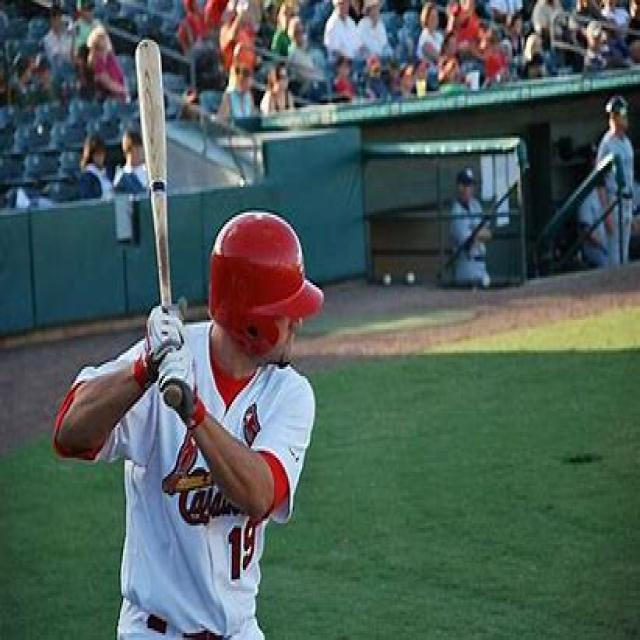bat: (130, 38, 184, 412)
